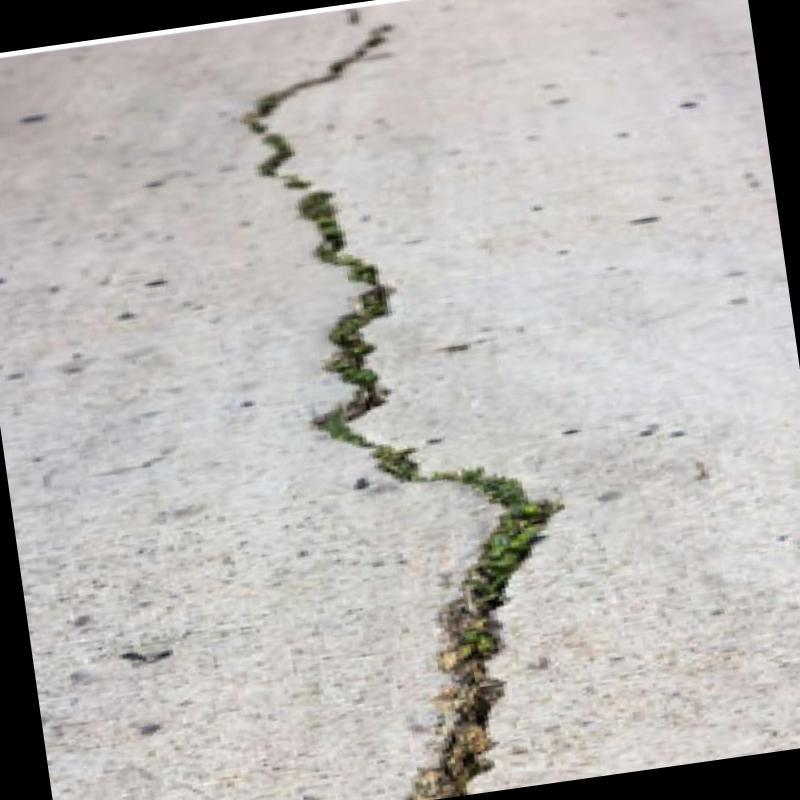pothole: (242, 24, 555, 800)
